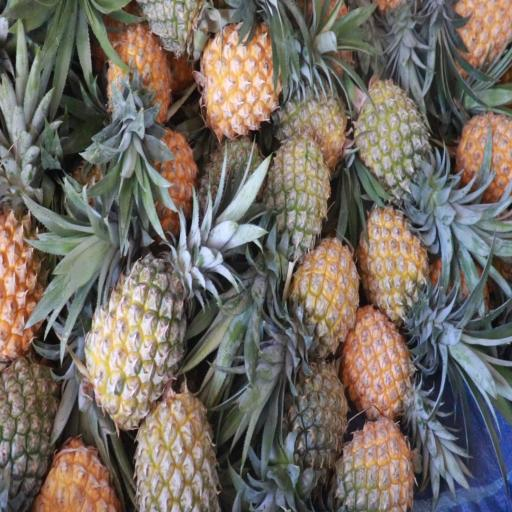------------------------------: (88, 256, 186, 421), (134, 386, 215, 512), (280, 80, 351, 167)
Pineapple - v8 v1: (200, 26, 283, 132), (362, 206, 435, 320), (0, 198, 52, 350), (346, 310, 416, 422), (294, 242, 359, 349), (105, 22, 170, 126), (41, 437, 116, 512), (140, 138, 196, 237), (457, 110, 512, 200), (455, 0, 512, 79)
